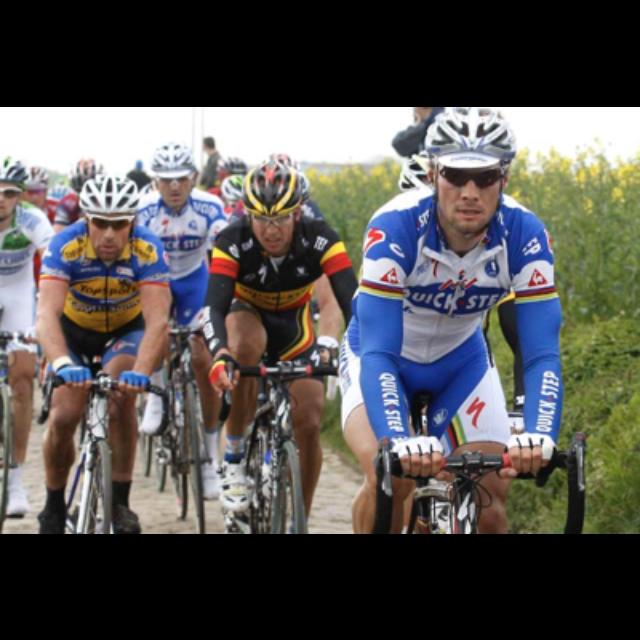With Helmet: (414, 108, 522, 234), (72, 166, 152, 264), (240, 156, 312, 254), (145, 140, 195, 207)
